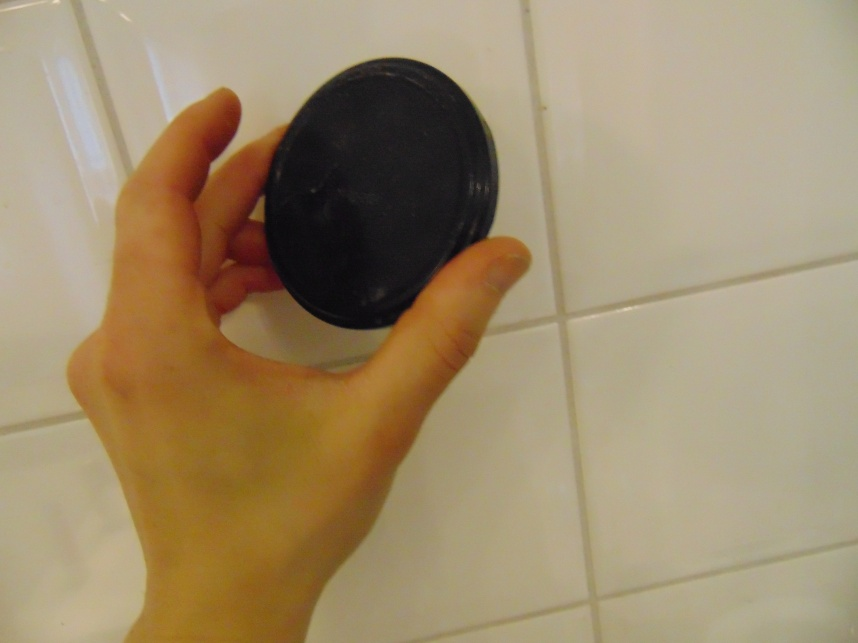metal: (262, 55, 503, 334)
